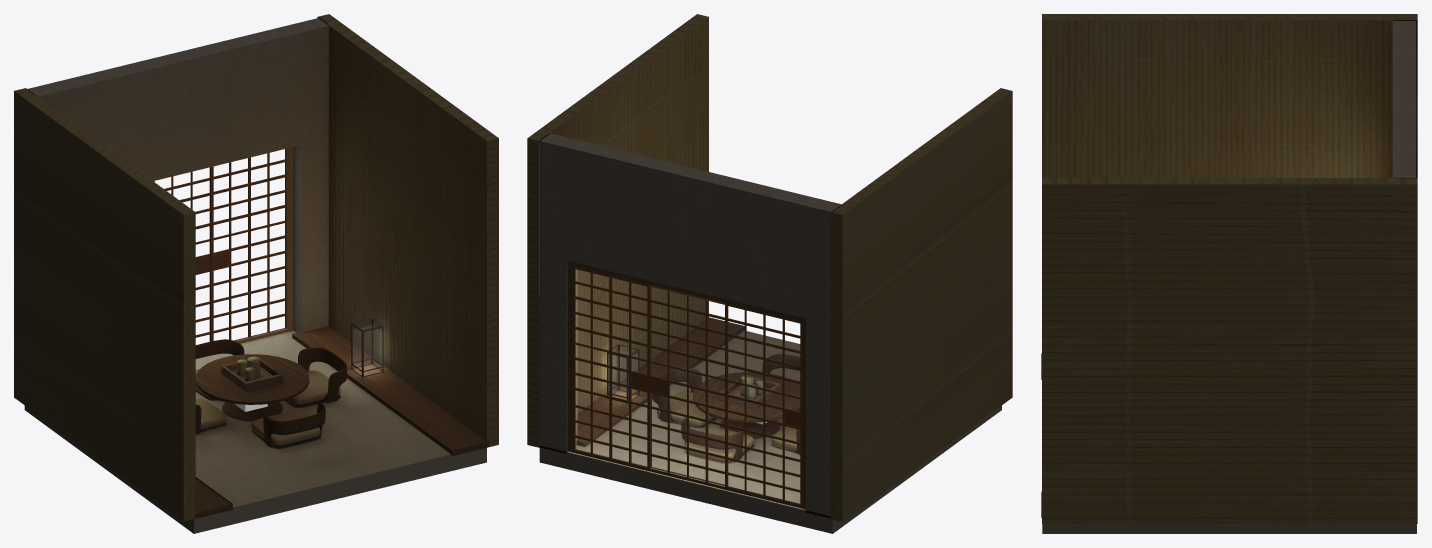
The picture shows the model from 3 angles, left to right: view 1: azimuth 30°, elevation 25°; view 2: azimuth 150°, elevation 25°; view 3: azimuth 270°, elevation 25°; orthographic projection. The views are drawn at different scales.
Visible parts, largest first — view 1: Object_2, Object_4, Object_11, Object_10, Object_18, Object_14, Object_12, Object_17, Object_3, Object_8, Object_9, Object_5 (+2 smaller); view 2: Object_2, Object_11, Object_4, Object_14, Object_10, Object_3, Object_18, Object_12, Object_17, Object_7, Object_8, Object_5; view 3: Object_4, Object_2, Object_11, Object_10.
Boxes of the visible parts, x1,y1,x2,y2 form: Object_2: [14, 88, 195, 521]; Object_4: [317, 14, 498, 446]; Object_11: [27, 18, 328, 332]; Object_10: [24, 330, 486, 533]; Object_18: [195, 326, 488, 518]; Object_14: [153, 149, 286, 341]; Object_12: [195, 354, 309, 421]; Object_17: [195, 369, 340, 446]; Object_3: [235, 147, 293, 343]; Object_8: [285, 347, 346, 407]; Object_9: [252, 402, 325, 448]; Object_5: [221, 357, 282, 391]; Object_2: [831, 88, 1012, 521]; Object_11: [540, 133, 841, 516]; Object_4: [527, 14, 708, 447]; Object_14: [573, 266, 803, 506]; Object_10: [539, 330, 1001, 533]; Object_3: [567, 260, 805, 509]; Object_18: [576, 317, 744, 446]; Object_12: [693, 372, 800, 438]; Object_17: [656, 384, 800, 461]; Object_7: [681, 417, 754, 463]; Object_8: [652, 367, 717, 428]; Object_5: [719, 375, 780, 409]; Object_4: [1042, 178, 1417, 523]; Object_2: [1042, 14, 1417, 177]; Object_11: [1392, 21, 1415, 177]; Object_10: [1042, 524, 1416, 533].
Size of the model in its own units: 28.17 by 27.46 by 26.32.
Materials: 17 (15 with a texture image).
